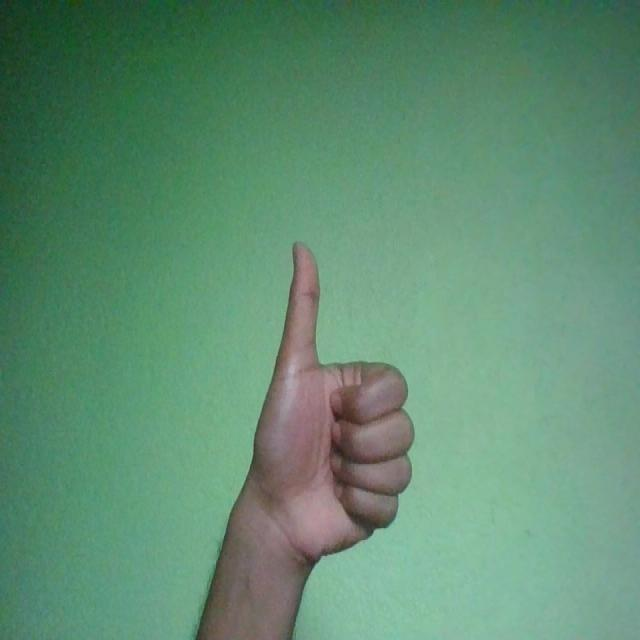Good Job: (254, 241, 414, 566)
